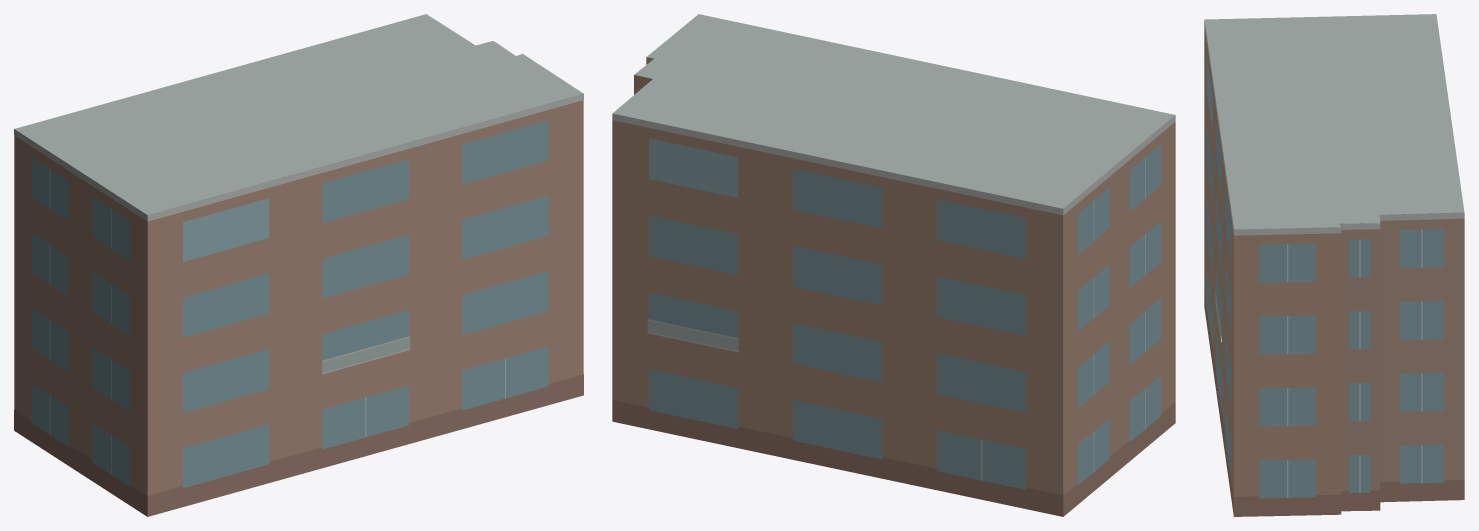
Rendered from survey-upis-32700843.glb.
3 renders of one model, left to right at view 1: azimuth 30°, elevation 25°; view 2: azimuth 150°, elevation 25°; view 3: azimuth 270°, elevation 25°, orthographic. The views are drawn at different scales.
Parts seen in each view (by area): view 1: survey-upis-32700843.tmp; view 2: survey-upis-32700843.tmp; view 3: survey-upis-32700843.tmp.
Part boxes in pixels (x1,y1,x2,y2): survey-upis-32700843.tmp: [14, 14, 583, 516]; survey-upis-32700843.tmp: [612, 14, 1175, 516]; survey-upis-32700843.tmp: [1204, 14, 1464, 516].
Bounding box in the file's own units: 18.33 × 11.4 × 9.36.
